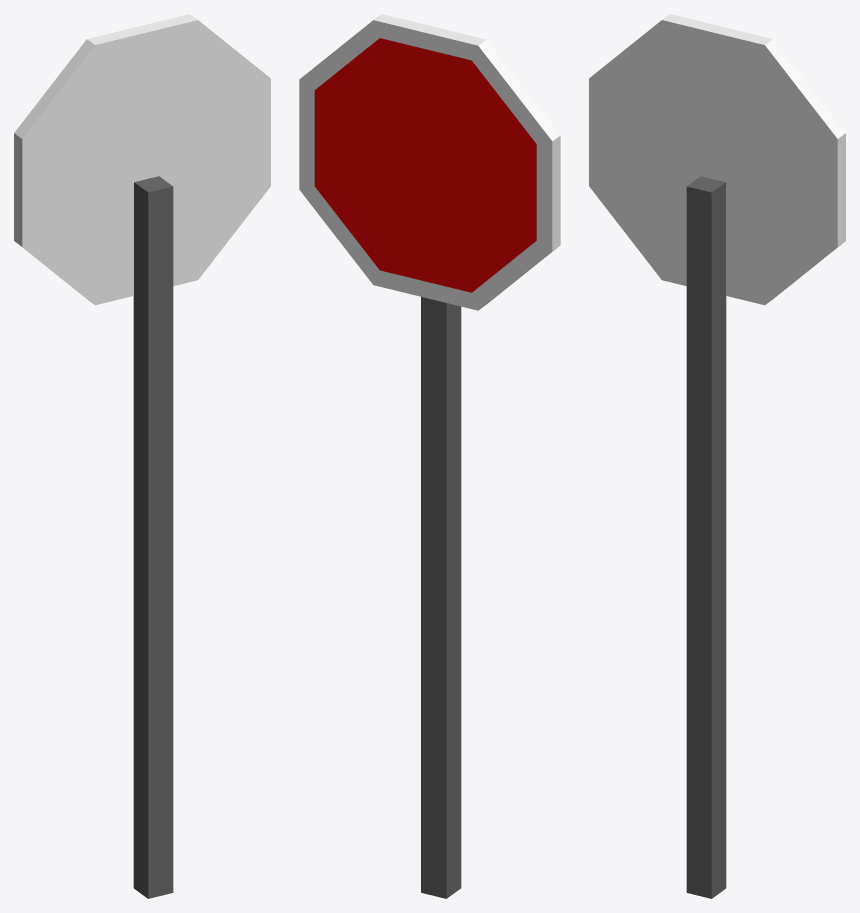
Rendered from StopSign.fbx.
3 views of the same model, side by side, from view 1: azimuth 30°, elevation 25°; view 2: azimuth 150°, elevation 25°; view 3: azimuth 330°, elevation 25° (orthographic).
Visible parts, largest first — view 1: StopSign; view 2: StopSign; view 3: StopSign.
Part boxes in pixels (x1,y1,x2,y2): StopSign: [14, 14, 270, 898]; StopSign: [299, 14, 560, 898]; StopSign: [589, 14, 845, 898].
Size of the model in its own units: 153 by 503 by 23.85.
